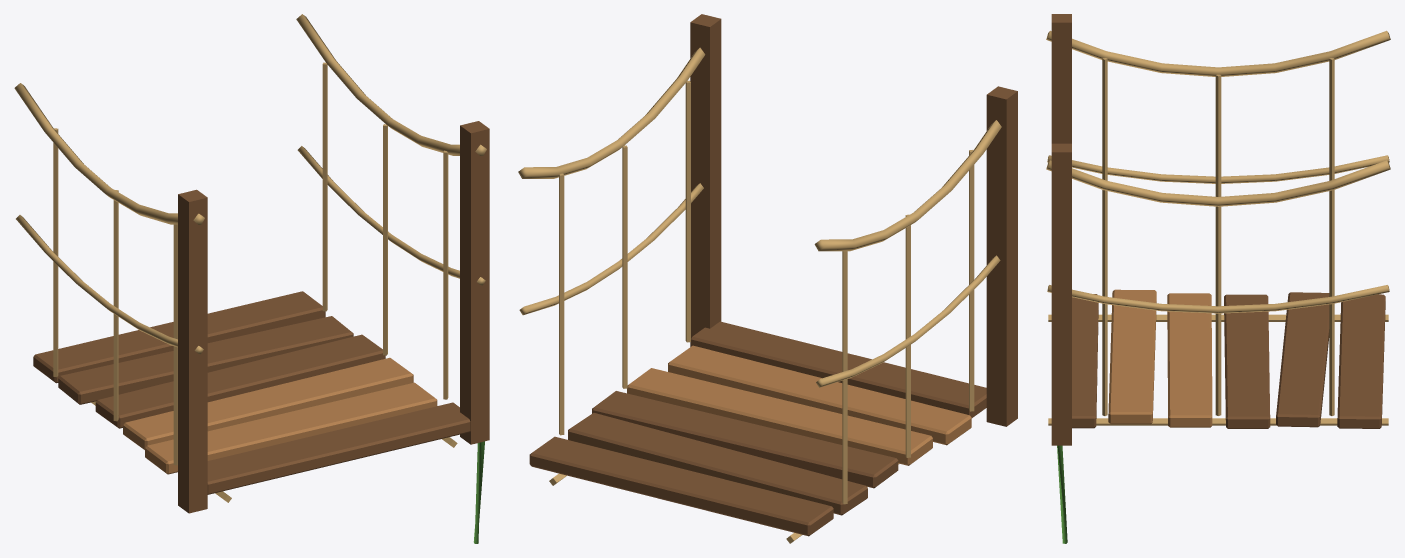
Rendered from rope_bridge.glb.
3 views of the same model, side by side, from view 1: azimuth 30°, elevation 25°; view 2: azimuth 150°, elevation 25°; view 3: azimuth 270°, elevation 25° (orthographic). The views are drawn at different scales.
Visible parts, largest first — view 1: rope_bridge; view 2: rope_bridge; view 3: rope_bridge.
Boxes of the visible parts, <box> form: rope_bridge: <box>14,14,489,543</box>; rope_bridge: <box>518,14,1017,543</box>; rope_bridge: <box>1046,14,1390,543</box>.
Bounding box in the file's own units: 0.96 × 1.28 × 1.01.
